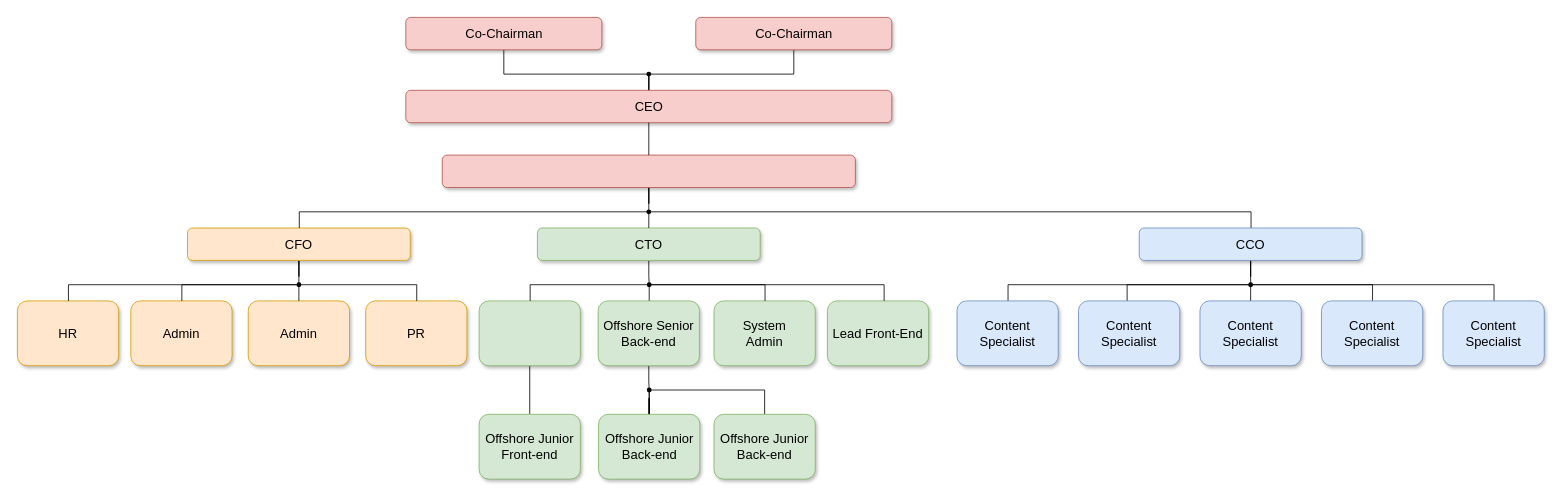
Some shapes in this 1563 by 499 pixel diagram are drawn without their labels. Each missing label, with the centre of its shape:
COO: the point at 649,172
Offshore Senior Front-end: the point at 530,334
